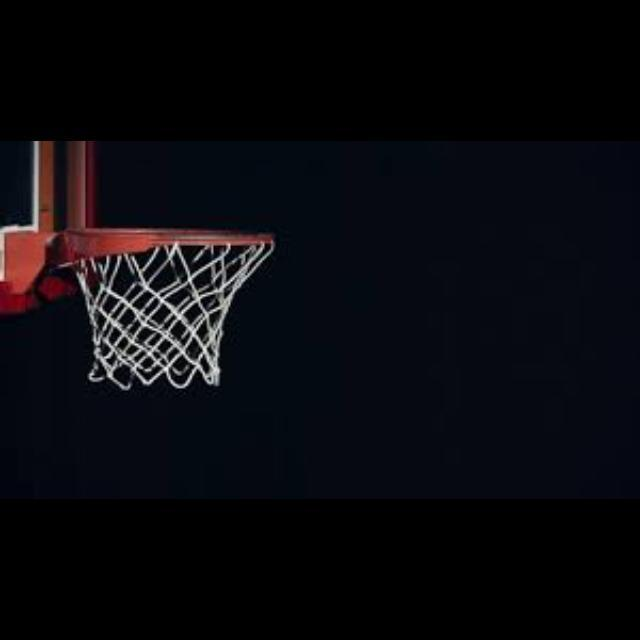rim: (67, 228, 275, 388)
